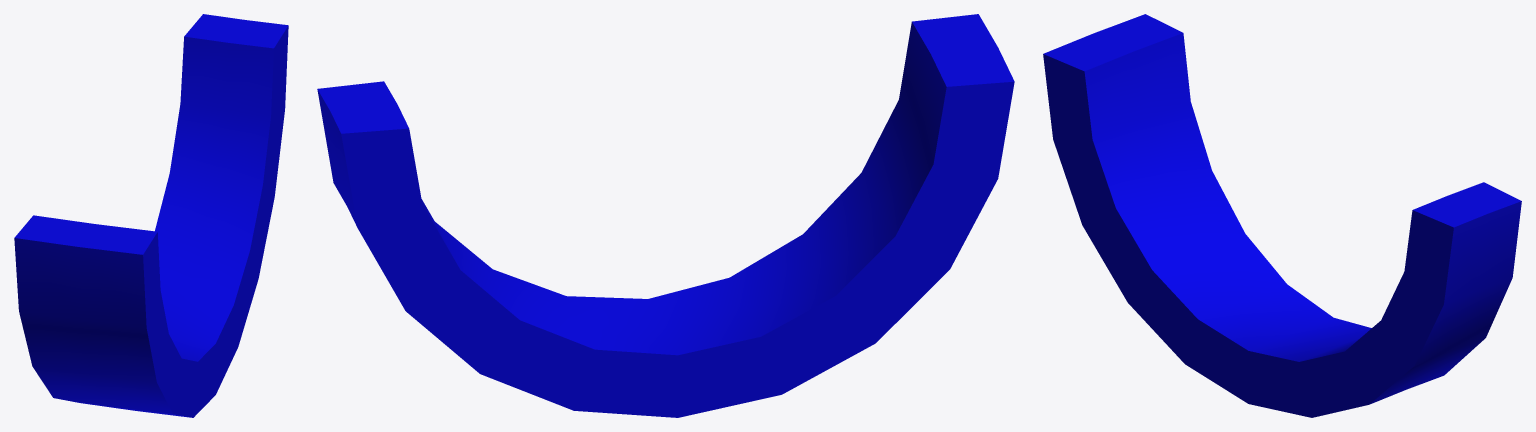
The model's file is Vessel_Vein_Shim.fbx.
3 views of the same model, side by side, from view 1: azimuth 30°, elevation 25°; view 2: azimuth 150°, elevation 25°; view 3: azimuth 270°, elevation 25° (orthographic). The views are drawn at different scales.
Visible parts, largest first — view 1: pPipe40; view 2: pPipe40; view 3: pPipe40.
Part boxes in pixels (box(x1,y1,x2,y2)): pPipe40: box(14, 14, 288, 417); pPipe40: box(317, 14, 1014, 417); pPipe40: box(1043, 14, 1521, 417).
Size of the model in its own units: 2.18 by 1.25 by 2.07.
